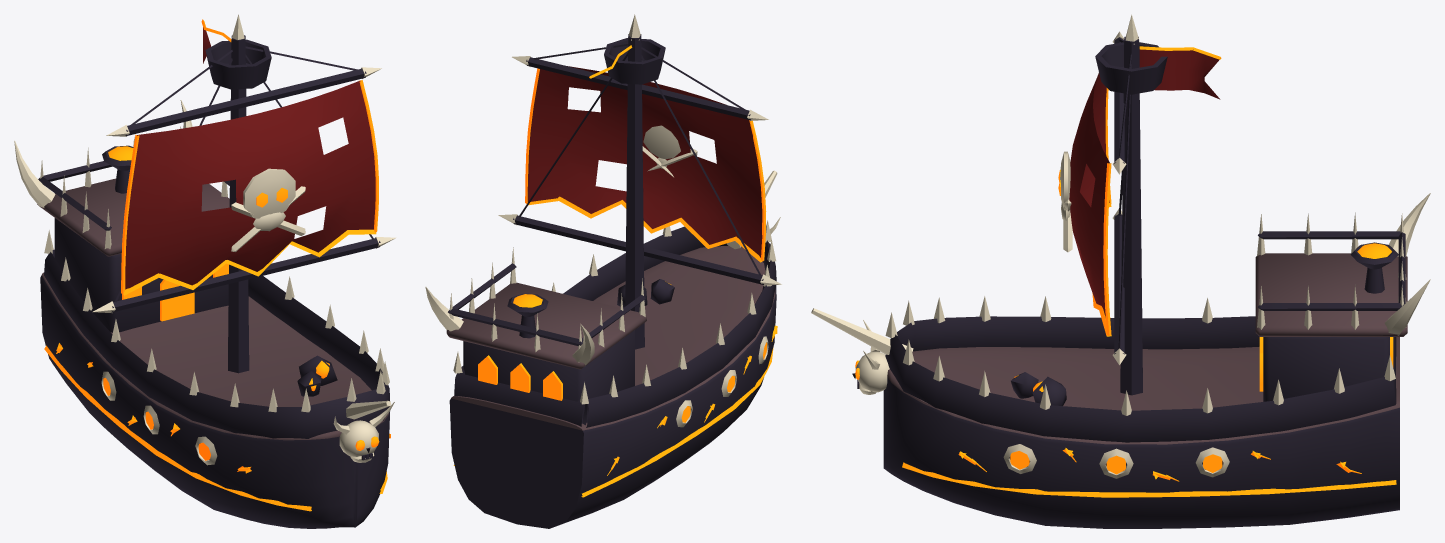
The model's file is ship_lava.glb.
3 views of the same model, side by side, from view 1: azimuth 30°, elevation 25°; view 2: azimuth 150°, elevation 25°; view 3: azimuth 270°, elevation 25° (orthographic). The views are drawn at different scales.
Parts seen in each view (by area): view 1: body, sail; view 2: body, sail; view 3: body, sail, flag.
Part boxes in pixels (x1,y1,x2,y2): body: (14, 100, 394, 528); sail: (92, 14, 396, 373); body: (425, 170, 780, 528); sail: (498, 14, 781, 349); body: (811, 193, 1430, 528); sail: (1058, 14, 1167, 395); flag: (1139, 46, 1221, 99).
Bounding box in the file's own units: 3.69 × 5.37 × 6.12.
